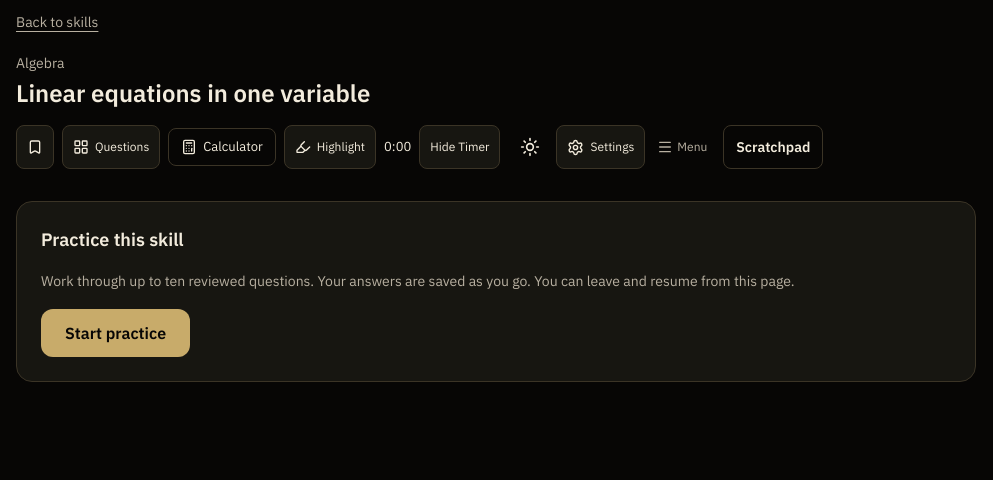
Test: canonical student practice › holds changed versions or empty pools and never silently substitutes legacy practice
The width and height of the screenshot is (993, 480).
Click the button "Start practice" at (116, 333), box [41,309,190,357]
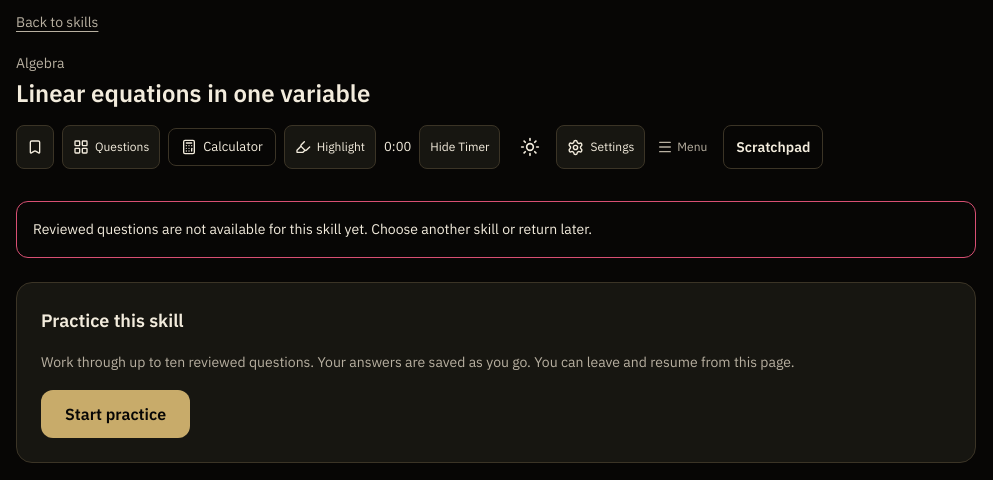
Expected: the text "Reviewed questions are not available" is shown, [33,220,592,238]
Click the button "Start practice" at (116, 414), box [41,390,190,438]
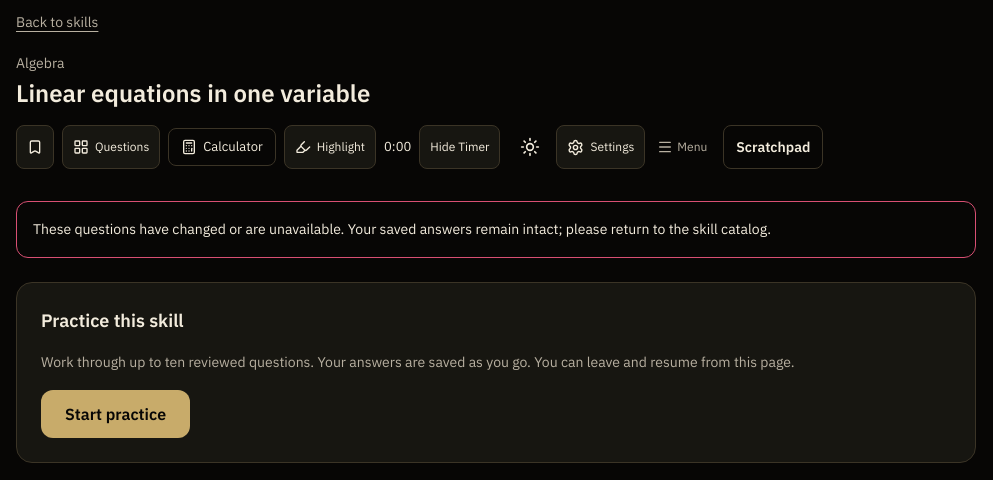
Expected: the text "These questions have changed" is shown, [33,220,771,238]
